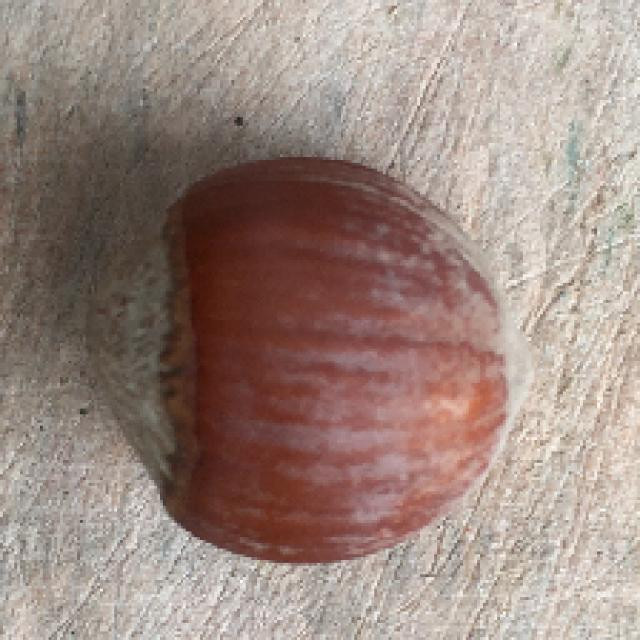QualityHazelnut: (86, 156, 541, 568)
